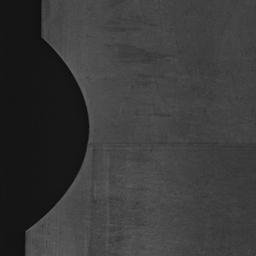Crescent gap: (27, 39, 89, 229)
